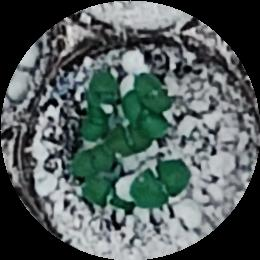Basil: (133, 160, 194, 210), (123, 95, 172, 137), (67, 146, 121, 177), (136, 72, 172, 114), (113, 126, 155, 154), (72, 104, 104, 139), (91, 68, 114, 102)
